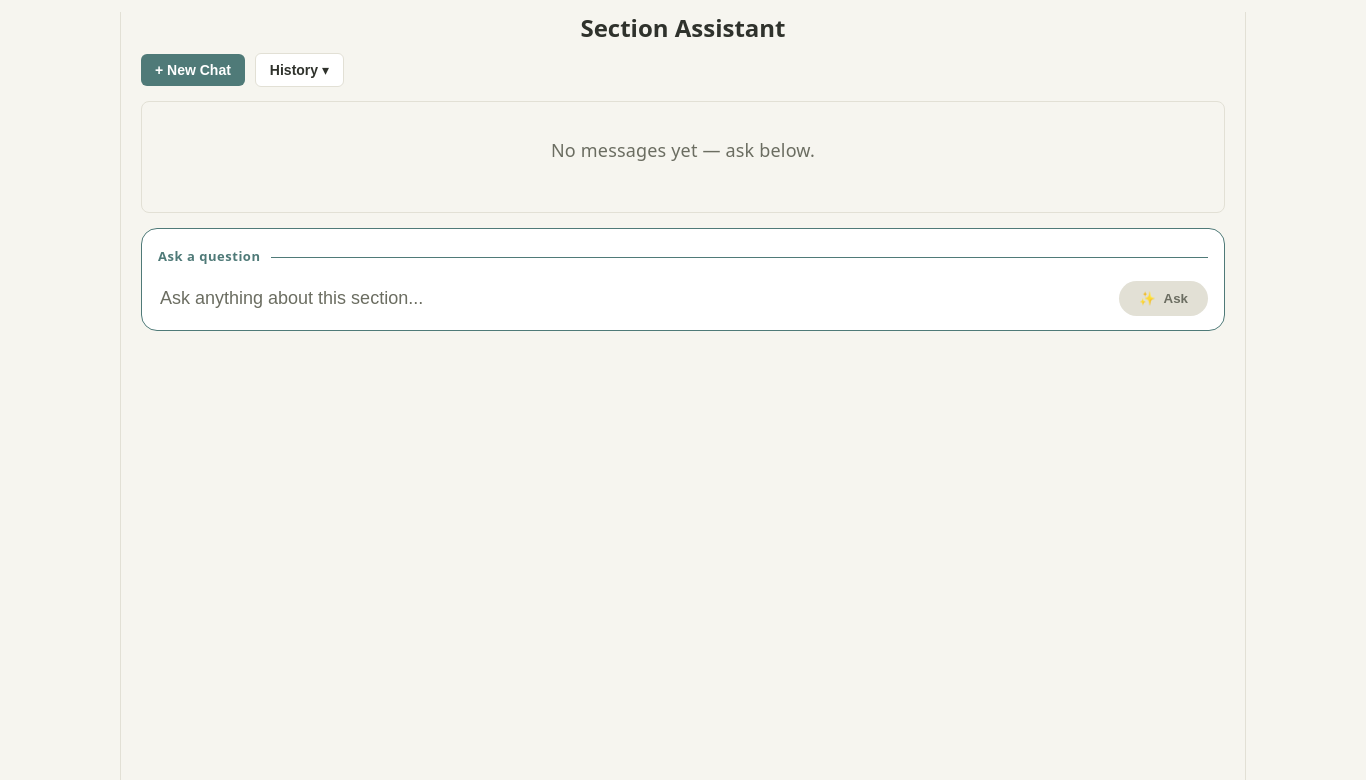
SectionAssistantPanel Component › displays AI response after receiving it
Type "Hello" into the field with placeholder "Ask anything about this section..." at (632, 299), box [158,287,1107,310]
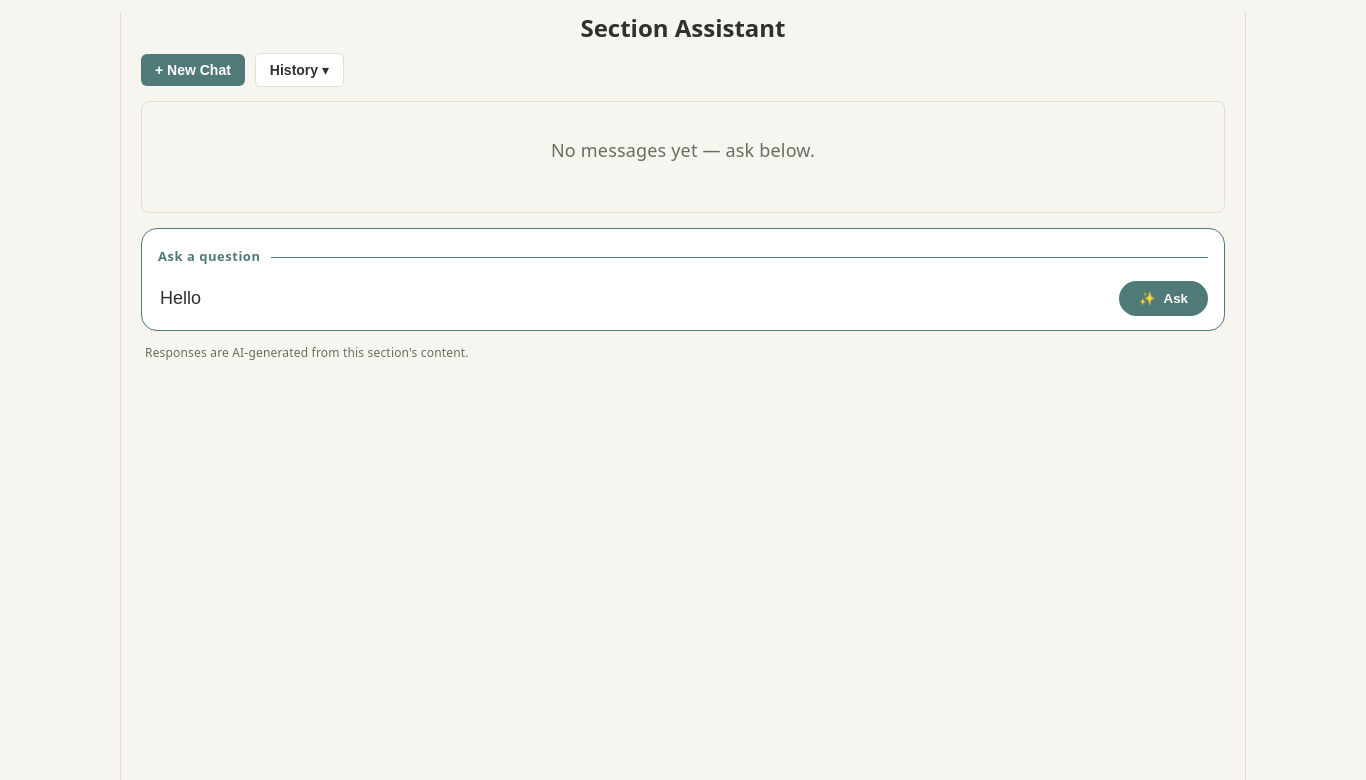
Click the button "✨ Ask" at (1163, 299), box [1119,281,1208,316]
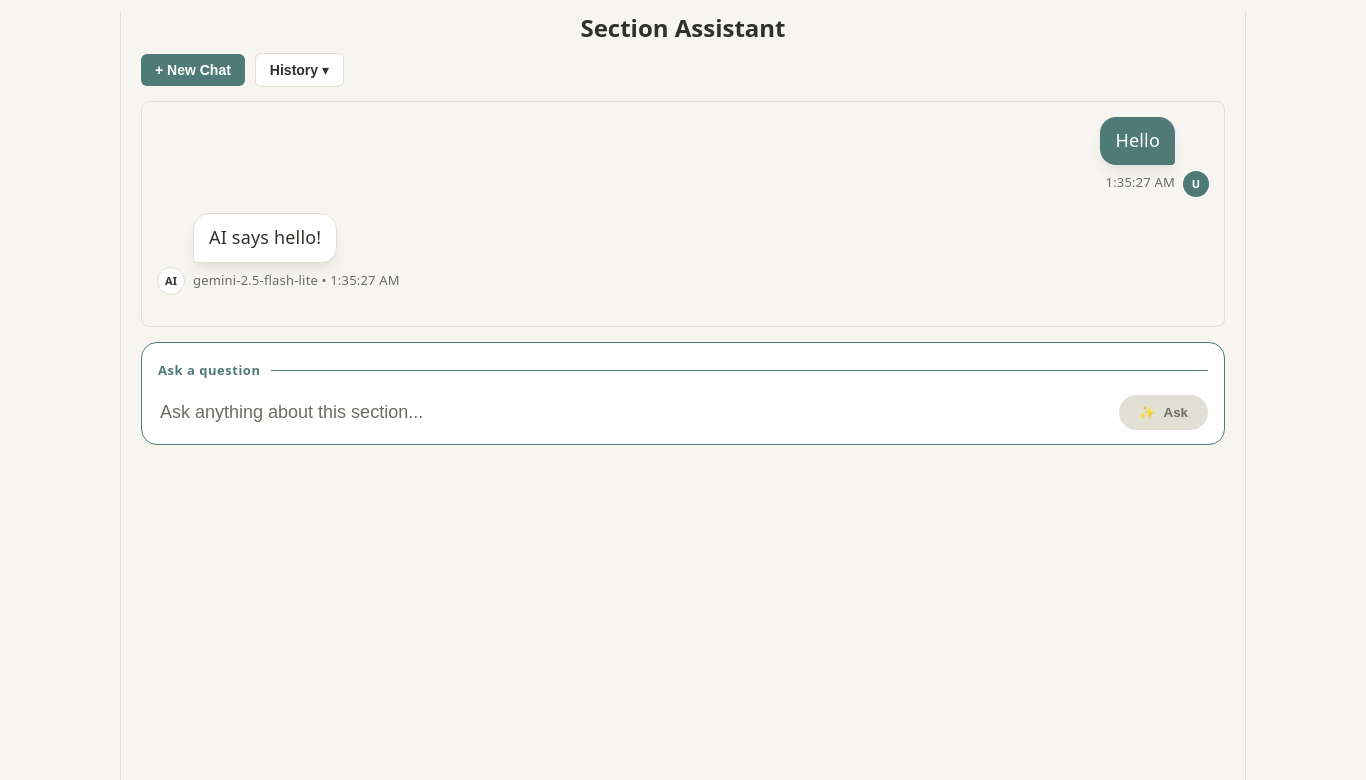
Result: the text "AI says hello!" is shown at [209,224,321,252]
